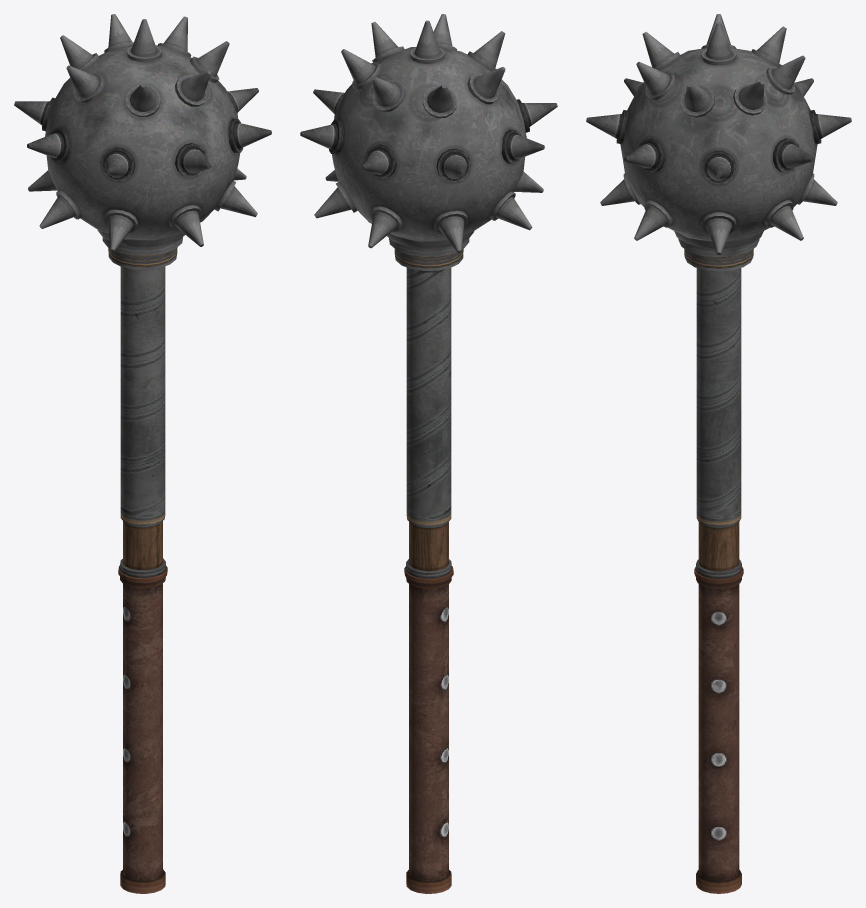
Rendered from Mace_04.fbx.
The picture shows the model from 3 angles, left to right: view 1: azimuth 30°, elevation 25°; view 2: azimuth 150°, elevation 25°; view 3: azimuth 270°, elevation 25°; orthographic projection.
Visible parts, largest first — view 1: Mace_04_LOD0; view 2: Mace_04_LOD0; view 3: Mace_04_LOD0.
Part boxes in pixels (x1,y1,x2,y2): Mace_04_LOD0: (14, 14, 271, 893); Mace_04_LOD0: (300, 14, 557, 893); Mace_04_LOD0: (586, 14, 851, 893).
Size of what is drawn, in the model's own units: 16.85 by 60.35 by 16.85.
